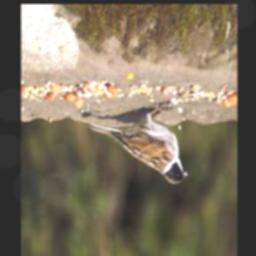Sparrow: (89, 103, 190, 186)
